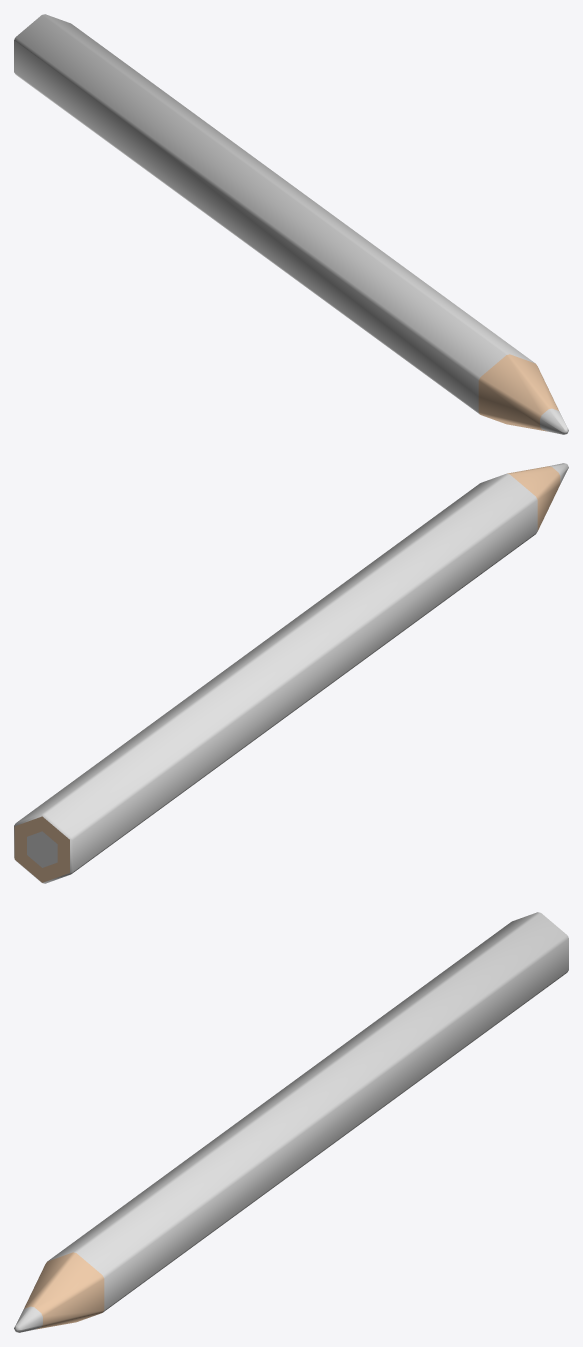
The model's file is Stift.fbx.
The picture shows the model from 3 angles, top to bottom: view 1: azimuth 30°, elevation 25°; view 2: azimuth 150°, elevation 25°; view 3: azimuth 330°, elevation 25°; orthographic projection.
Visible parts, largest first — view 1: Stift; view 2: Stift; view 3: Stift.
Boxes of the visible parts, x1=… form: Stift: x1=14, y1=14, x2=568, y2=434; Stift: x1=14, y1=463, x2=568, y2=883; Stift: x1=14, y1=912, x2=568, y2=1332.
Bounding box in the file's own units: 1.34 × 1.51 × 20.71.
